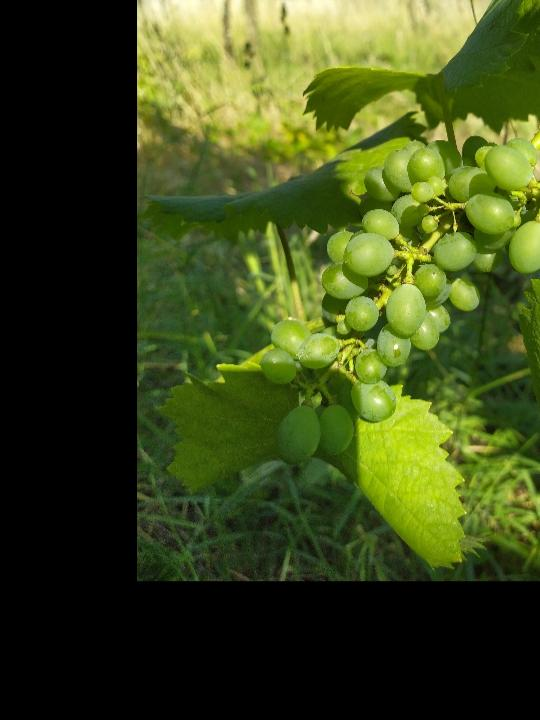grape: (259, 131, 540, 471)
